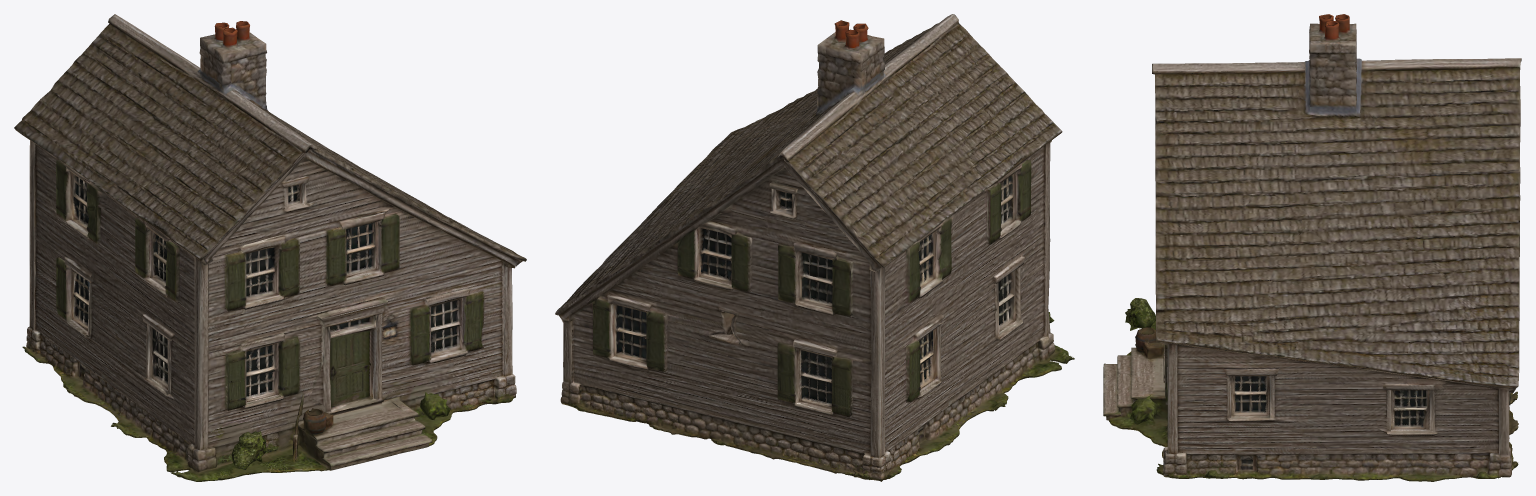
File: tripo_convert_2cf00425-385f-4f01-a4dc-105d1ef72de7.fbx
The picture shows the model from 3 angles, left to right: view 1: azimuth 30°, elevation 25°; view 2: azimuth 150°, elevation 25°; view 3: azimuth 270°, elevation 25°; orthographic projection.
Parts seen in each view (by area): view 1: tripo_node_2cf00425; view 2: tripo_node_2cf00425; view 3: tripo_node_2cf00425.
Boxes of the visible parts, x1,y1,x2,y2 form: tripo_node_2cf00425: (14,14,526,481); tripo_node_2cf00425: (555,14,1074,481); tripo_node_2cf00425: (1103,14,1521,481).
Bounding box in the file's own units: 0.9386 × 0.9192 × 0.9636.
1 material, 1 textured.
